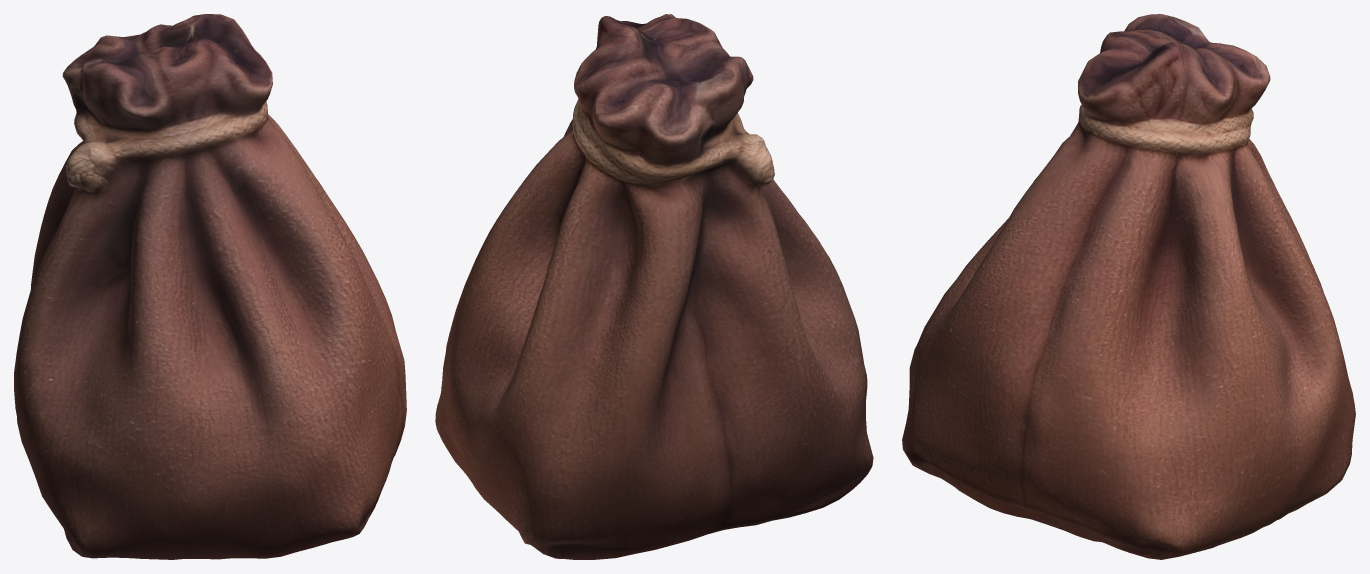
The model's file is bag.fbx.
3 views of the same model, side by side, from view 1: azimuth 30°, elevation 25°; view 2: azimuth 150°, elevation 25°; view 3: azimuth 270°, elevation 25° (orthographic). The views are drawn at different scales.
Parts seen in each view (by area): view 1: Default; view 2: Default; view 3: Default.
Part boxes in pixels (<box>): Default: <box>14,14,406,559</box>; Default: <box>435,14,873,559</box>; Default: <box>902,14,1355,559</box>.
Bounding box in the file's own units: 18.47 × 23.31 × 20.11.
1 material, 1 textured.
